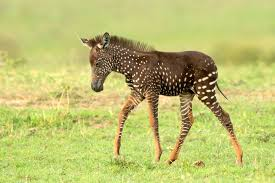zebra: (79, 30, 250, 173)
